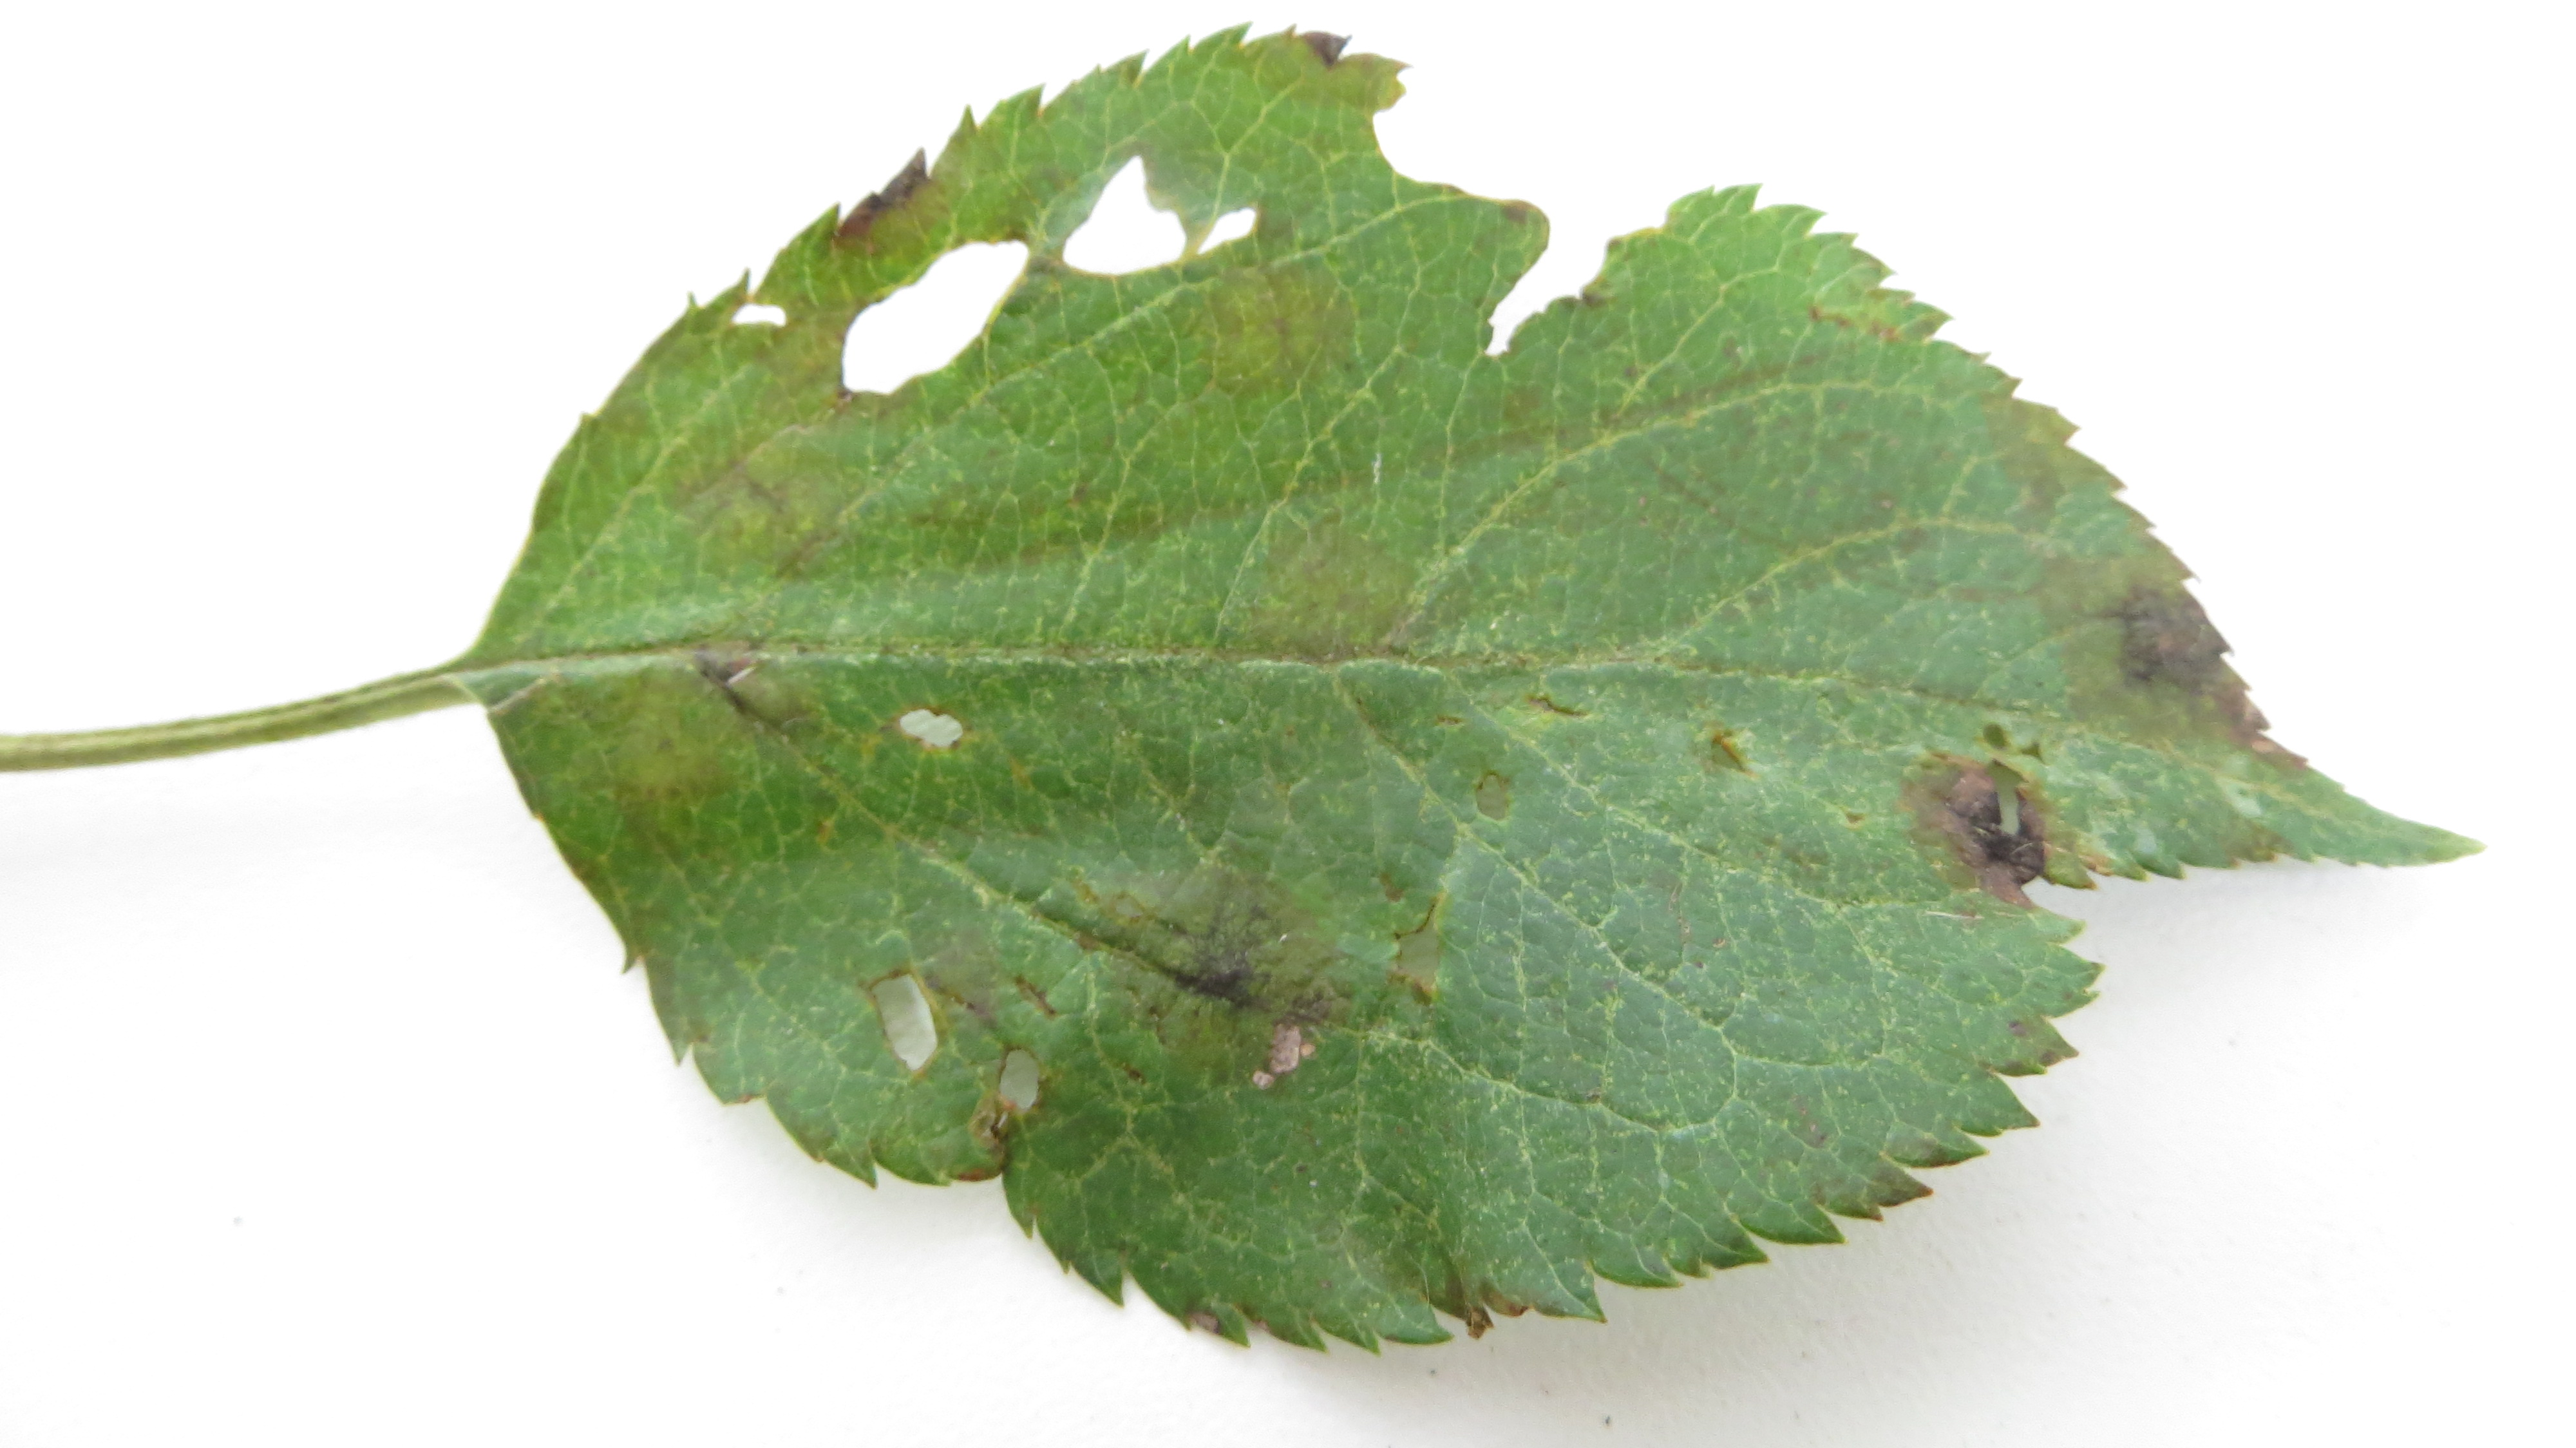sarna: (587, 614, 853, 901), (1058, 850, 1355, 1094), (1215, 499, 1483, 722), (1897, 726, 2112, 942), (2052, 542, 2254, 751), (646, 402, 874, 581), (1185, 237, 1366, 405), (1934, 389, 2120, 547)
